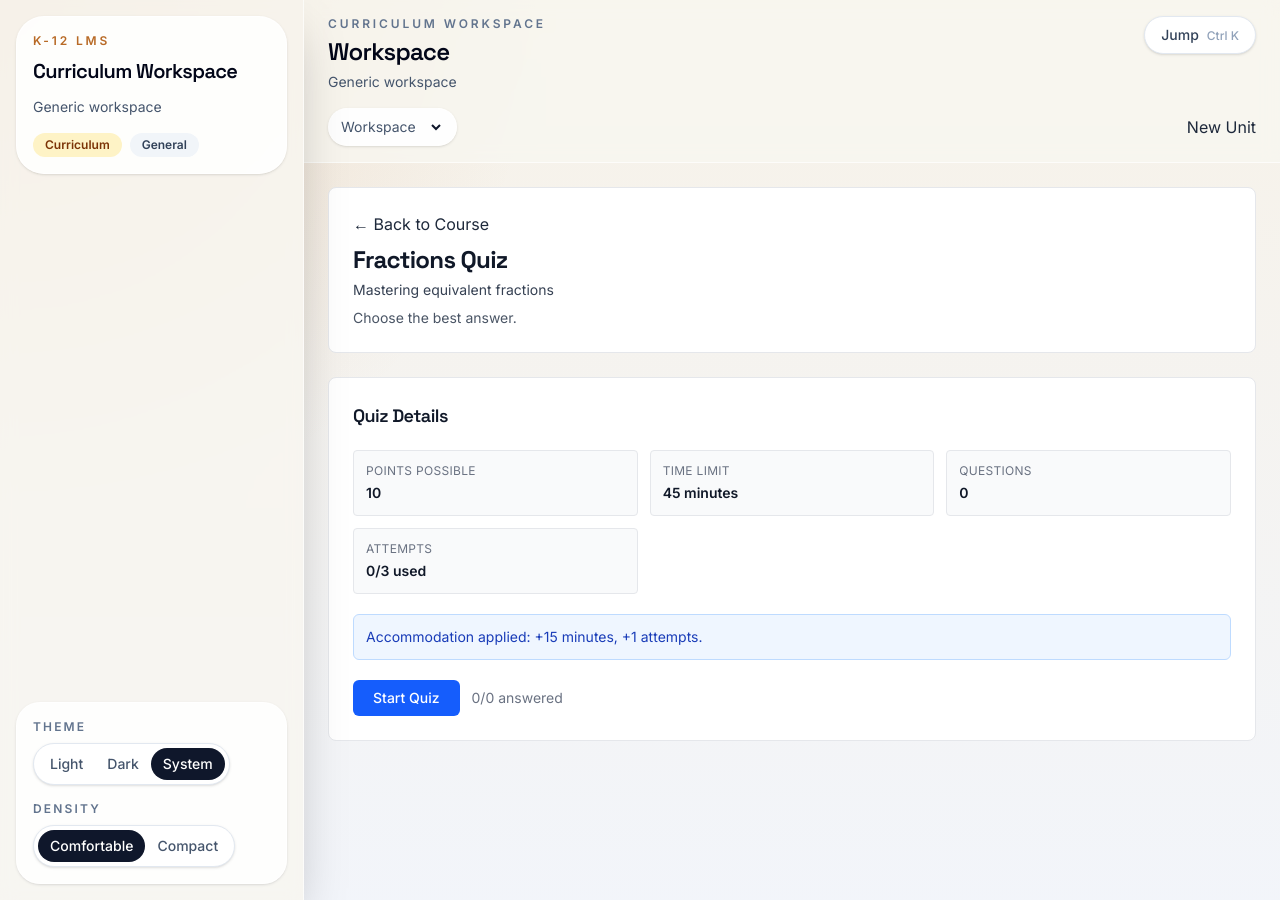
Learn Quiz Attempt Flow › renders accommodations, starts an attempt, and submits to results
Expected: the heading "Fractions Quiz" is shown, [353,244,508,275]
Expected: the text "Accommodation applied: +15 minutes, +1 attempts." is shown, [353,614,1231,660]
Click the button "Start Quiz" at [406, 698], box [353,680,460,716]
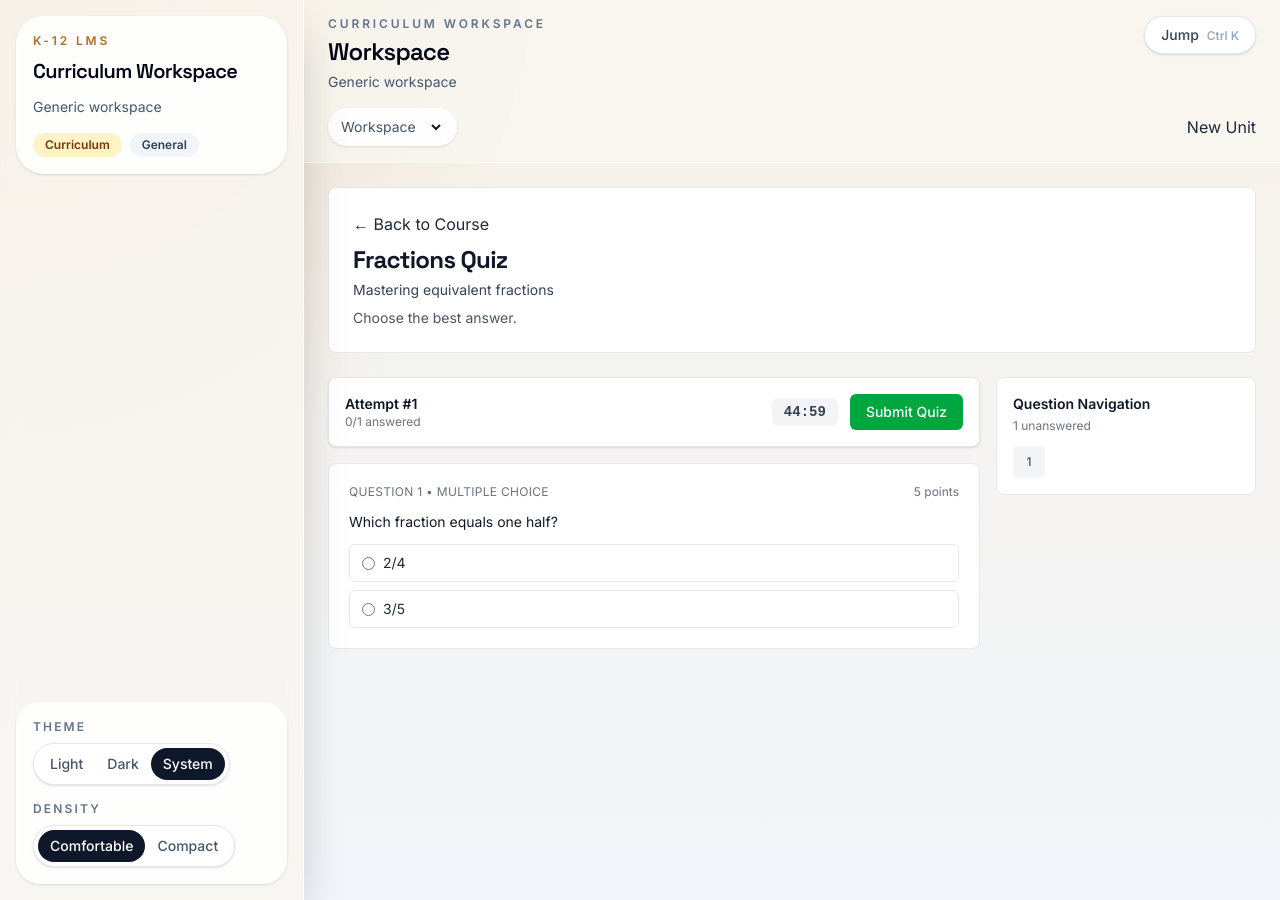
Expected: the text "Attempt #1" is shown, [345,394,421,414]
Expected: the text "44:59" is shown, [772,398,838,426]
Click the radio button labelled "2/4" at [368, 563], box [362,556,375,570]
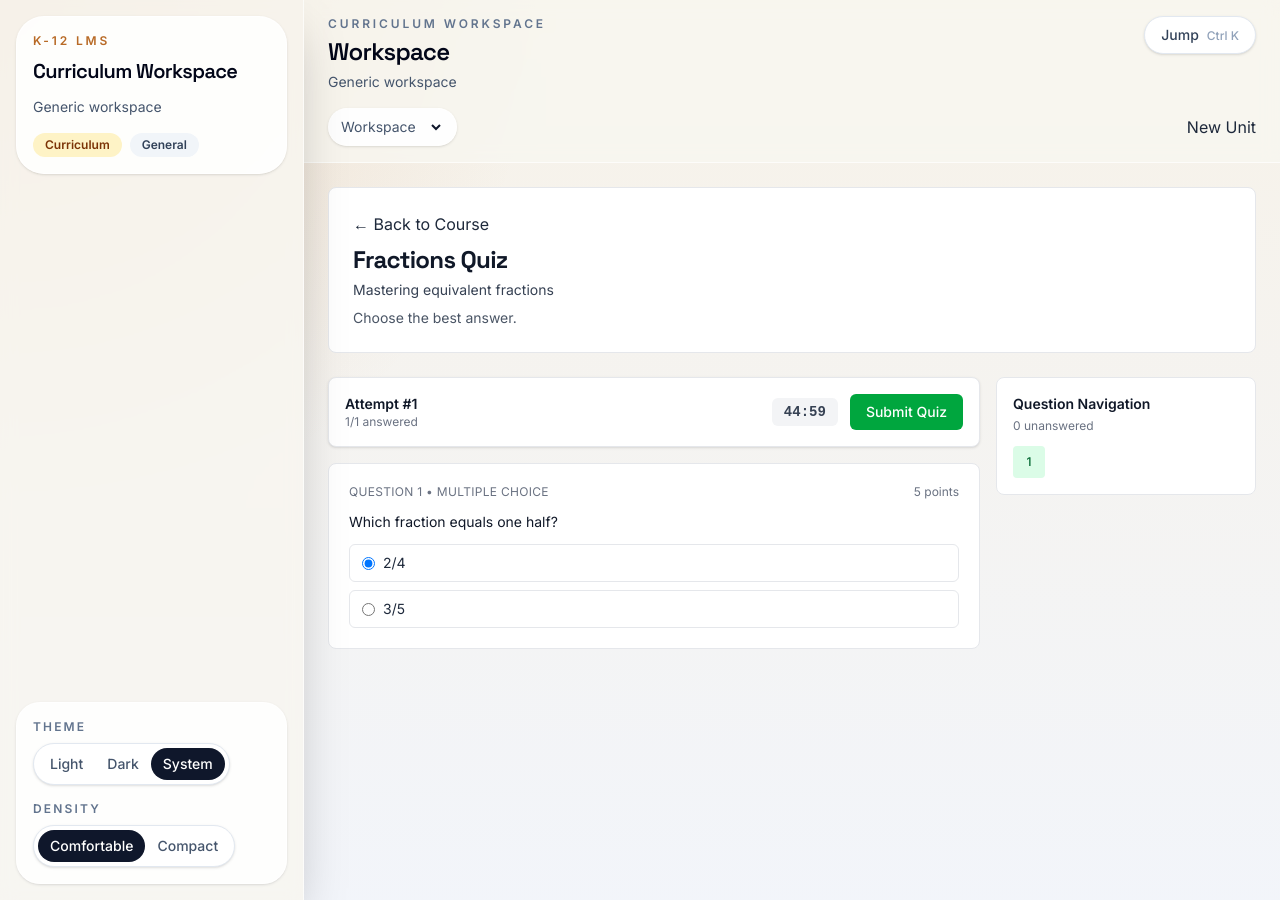
Click the button "Submit Quiz" at [906, 412], box [850,394,963,430]
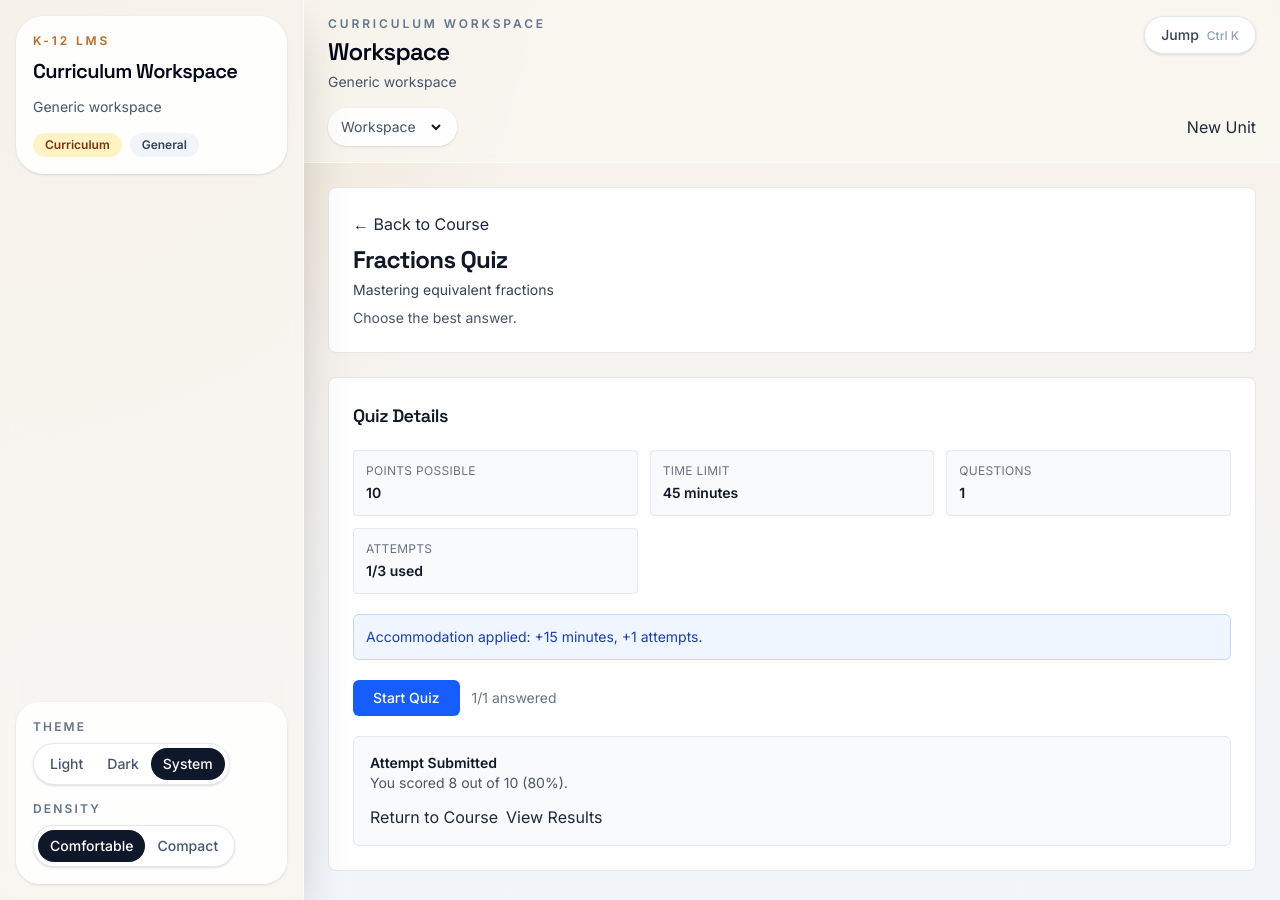
Expected: the text "Attempt Submitted" is shown, [370,754,497,771]
